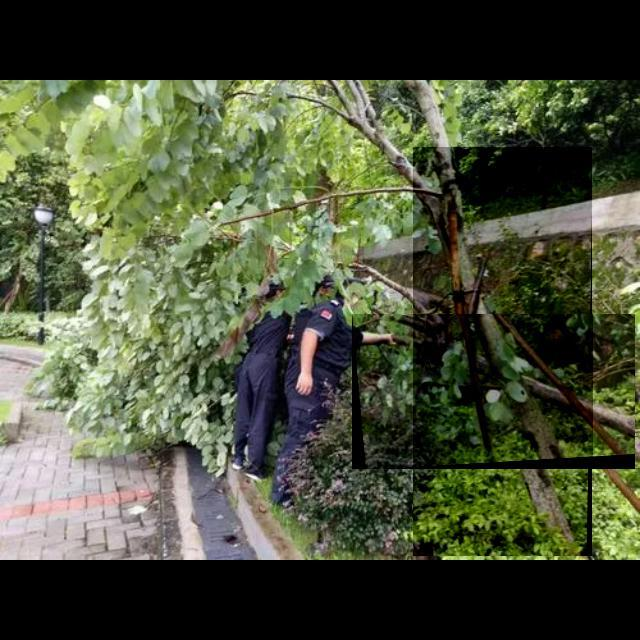fallen_tree: (413, 147, 593, 557), (352, 314, 636, 470)
